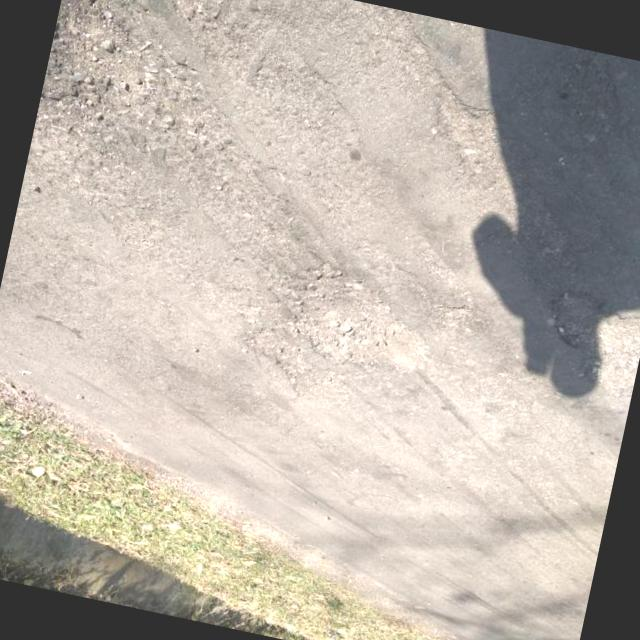pothole: (276, 256, 444, 383), (41, 0, 170, 112), (231, 325, 349, 408)
